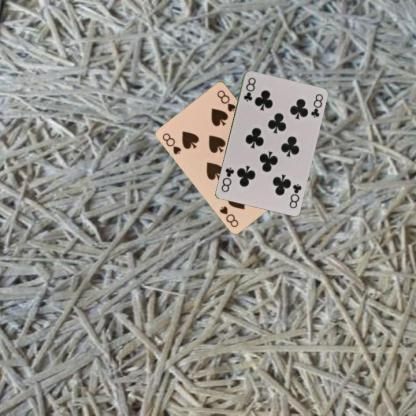8c: (286, 180, 302, 210), (241, 74, 257, 103)
8s: (160, 130, 183, 156)
